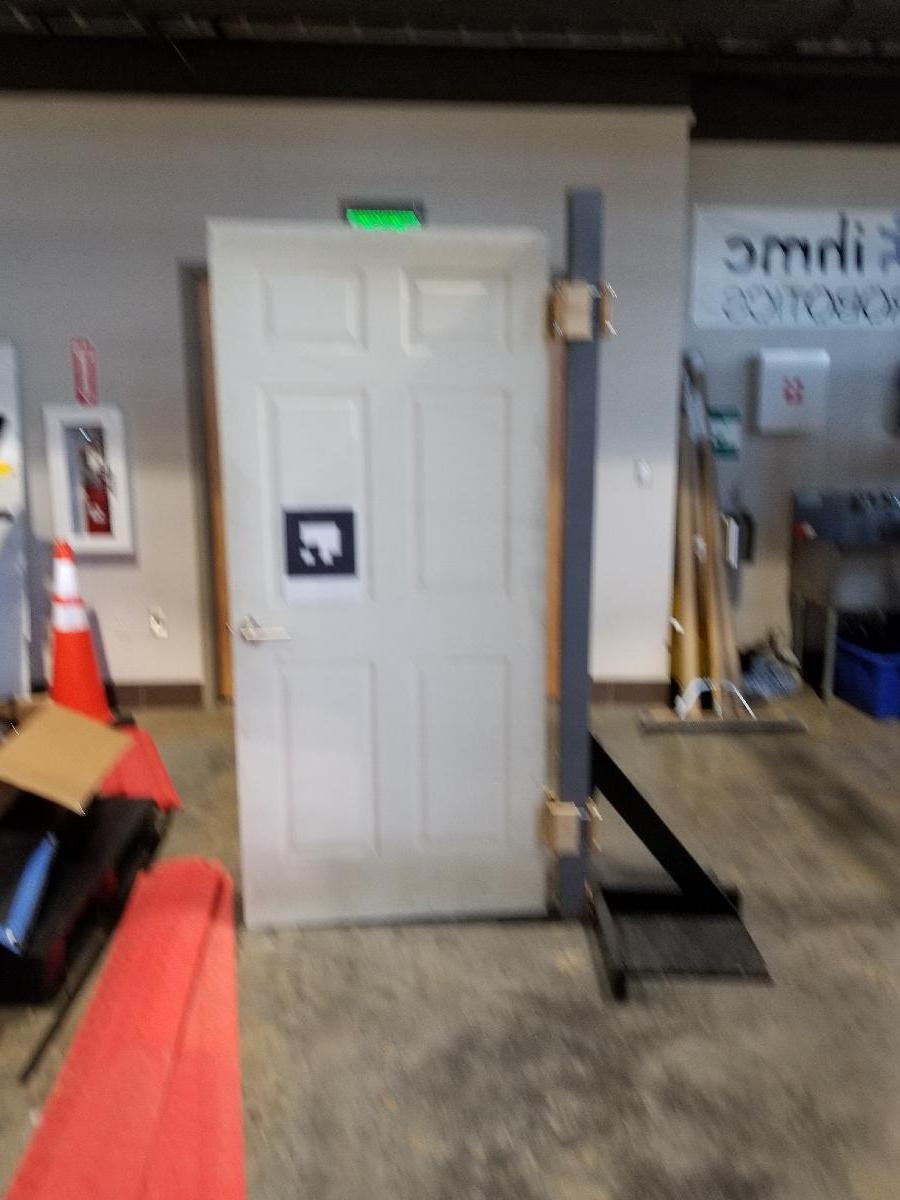door: (230, 228, 552, 929), (232, 608, 295, 656)
